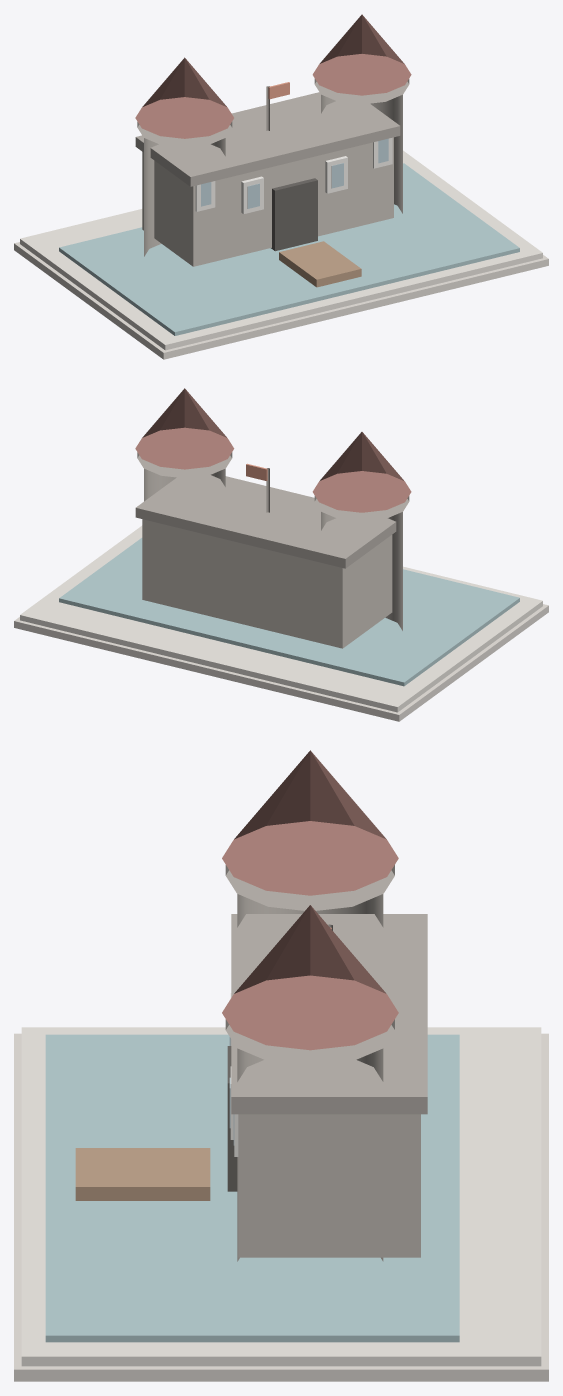
The model's file is castelo.glb.
The picture shows the model from 3 angles, top to bottom: view 1: azimuth 30°, elevation 25°; view 2: azimuth 150°, elevation 25°; view 3: azimuth 270°, elevation 25°; orthographic projection. The views are drawn at different scales.
Size of the model in its own units: 4.13 by 2.21 by 2.78.
